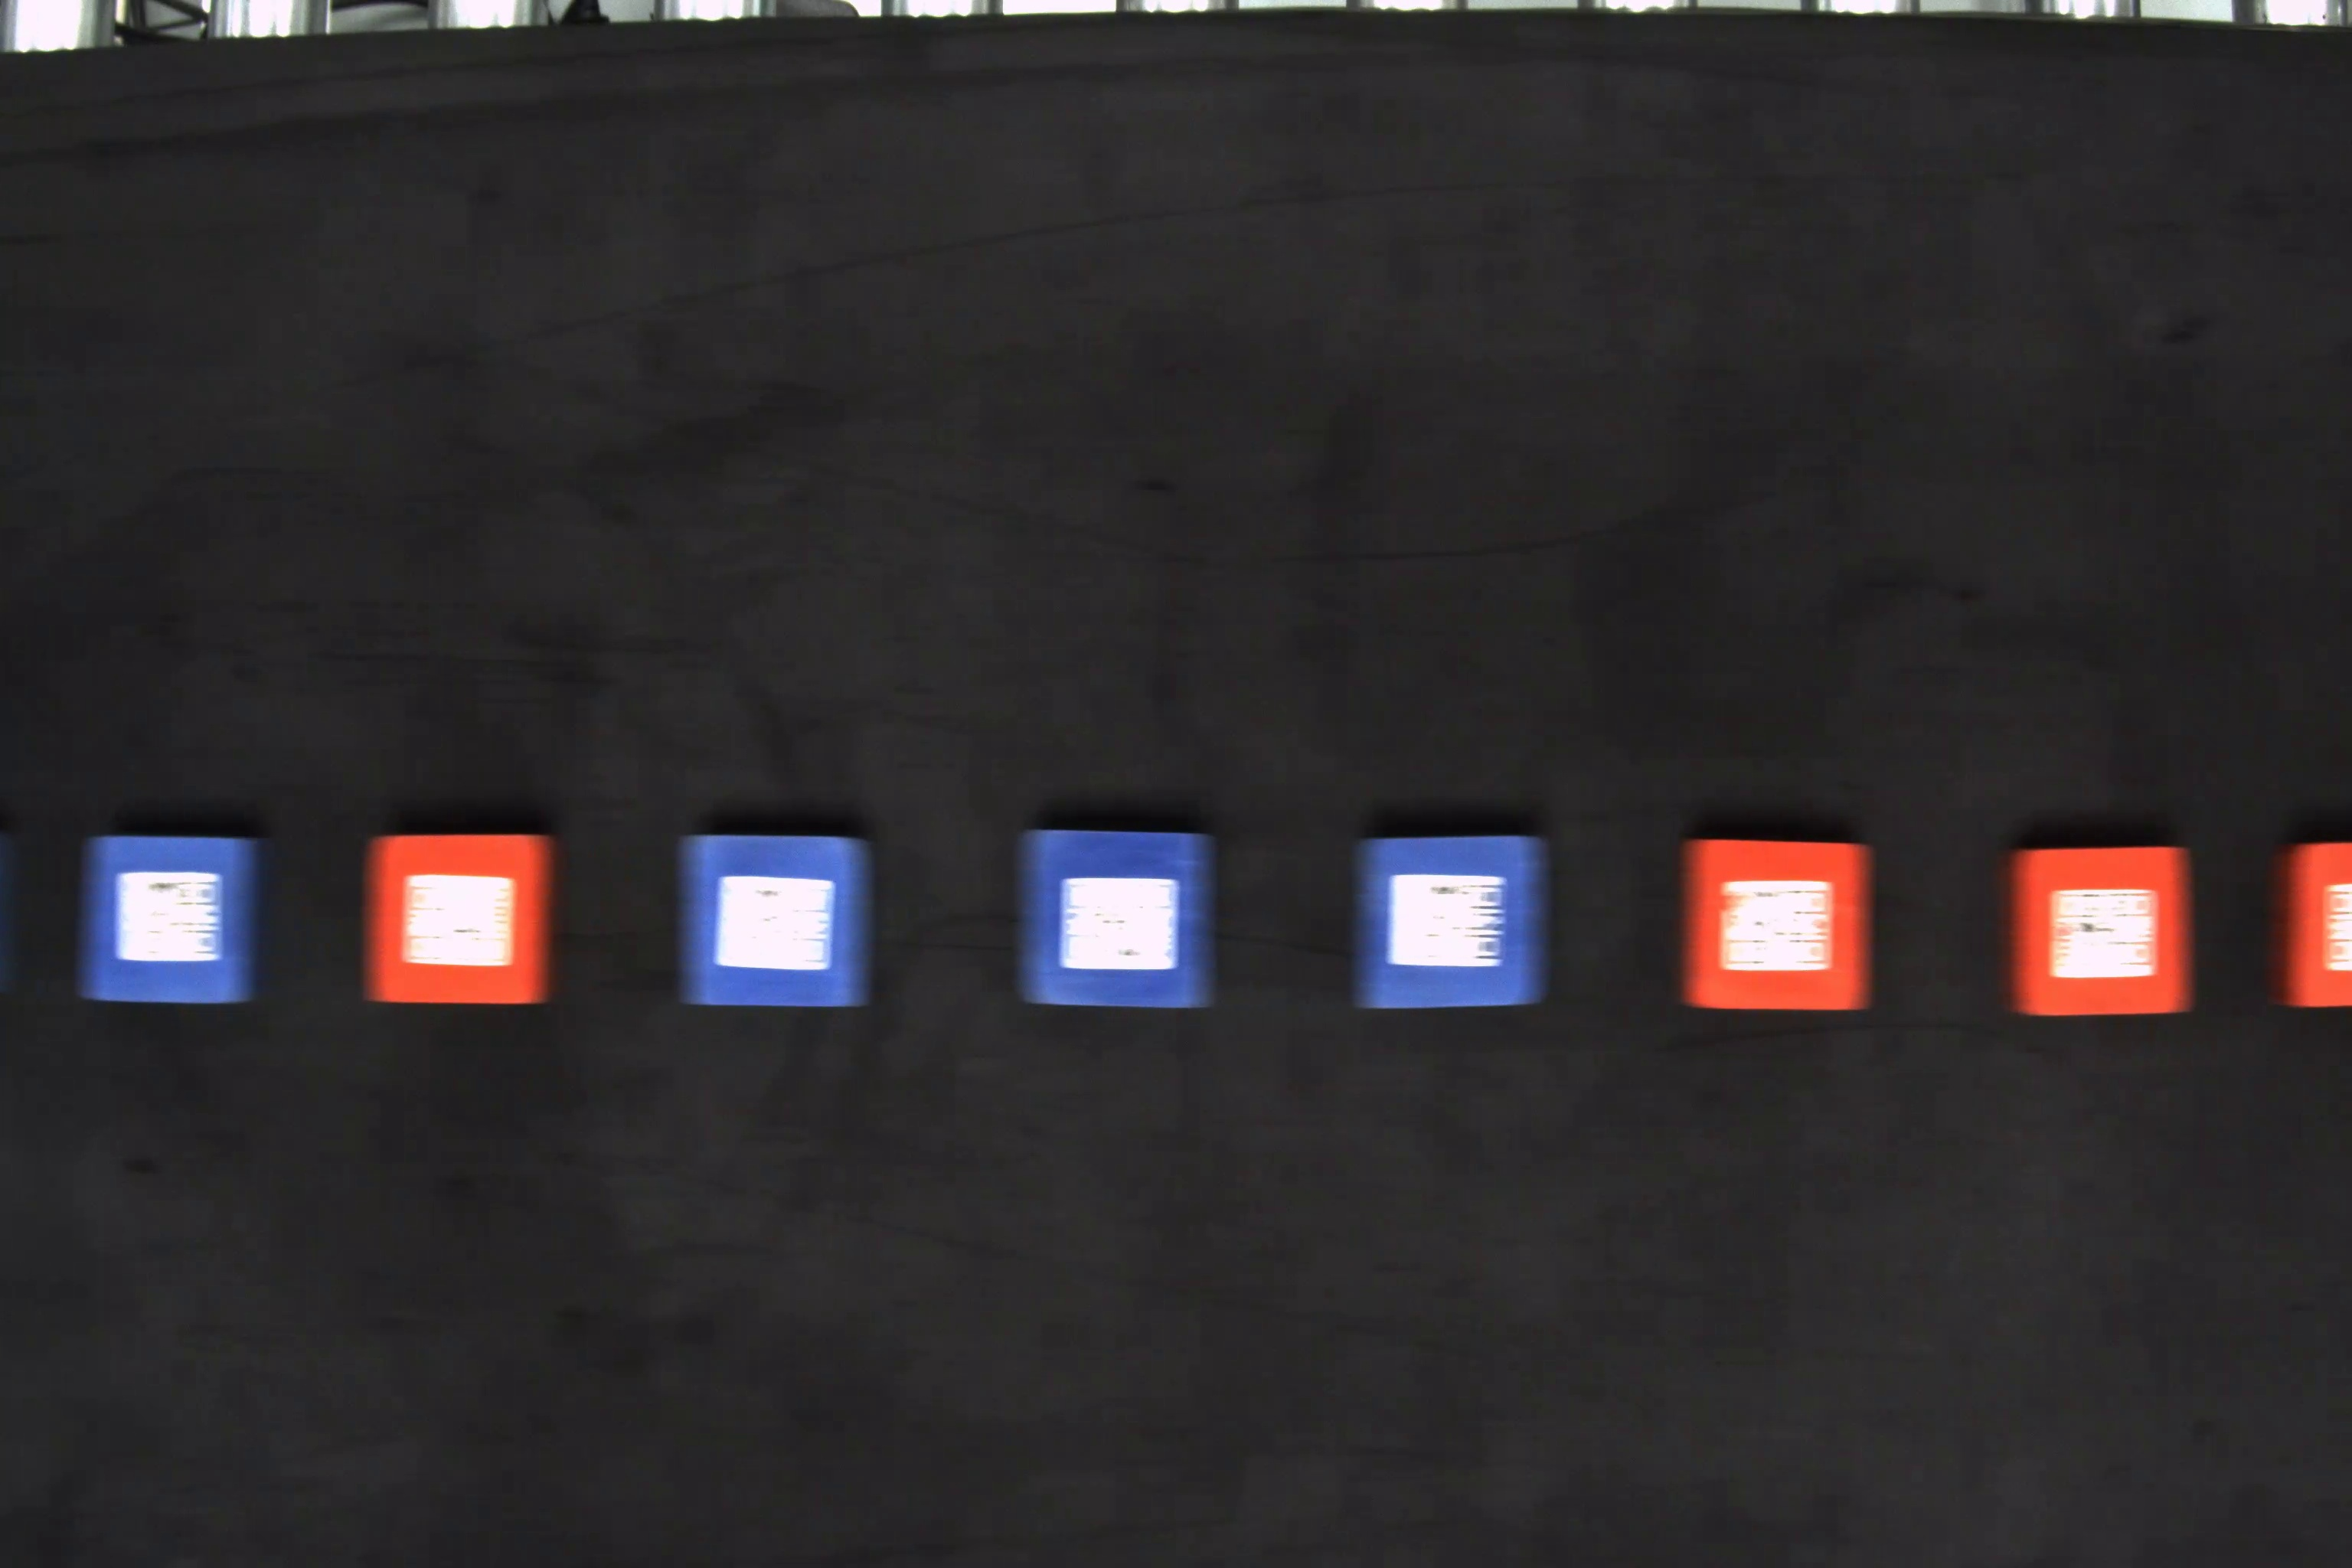wood: (675, 828, 873, 1013), (1673, 835, 1876, 1013), (1022, 826, 1213, 1013), (364, 828, 560, 1006), (1998, 845, 2194, 1022), (1347, 836, 1550, 1004), (73, 833, 268, 1004), (2275, 842, 2352, 1011)
